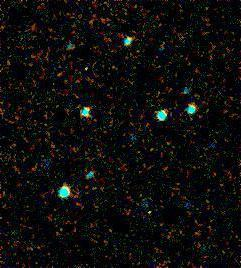star: (69, 56, 99, 86)
